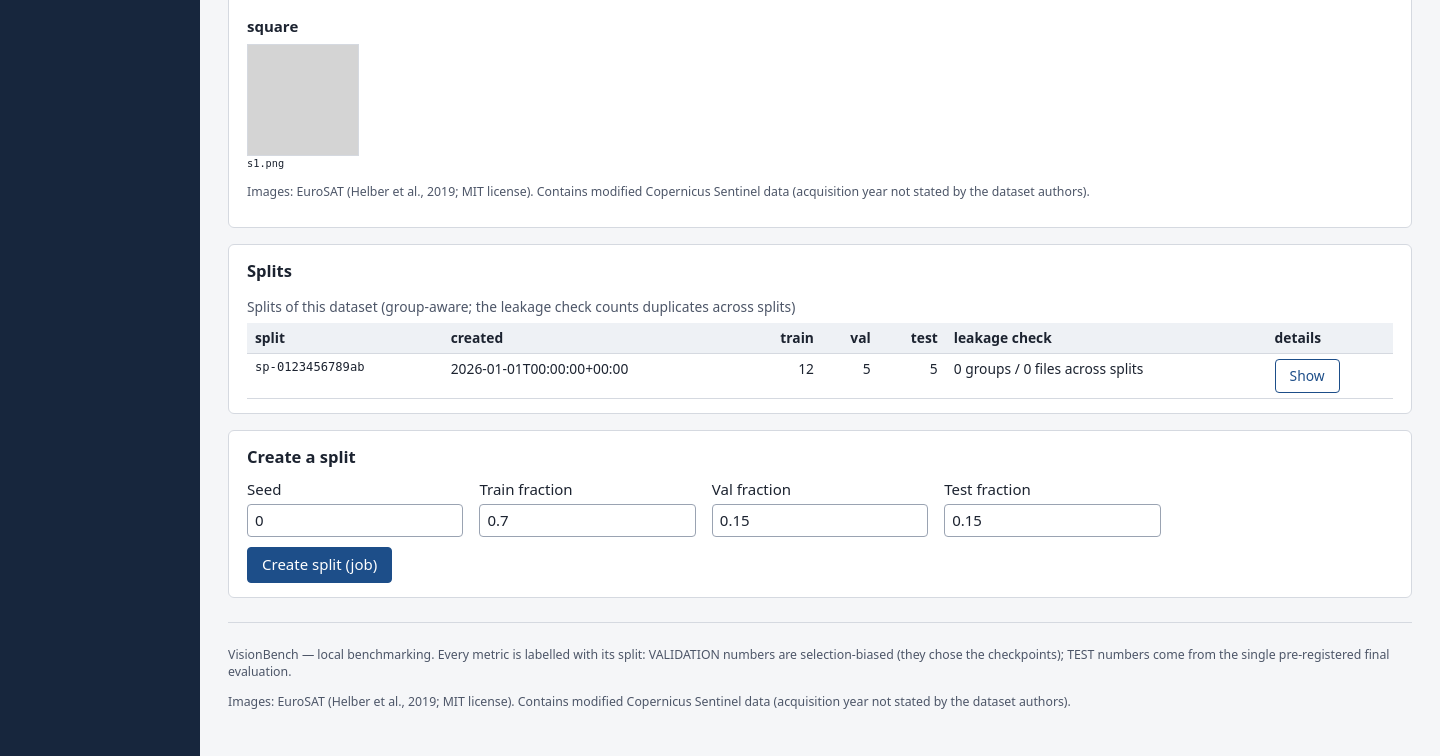
Test case: Datasets › shows a dataset with class counts, samples, attribution and splits
(page scrolled)
Expected: the text "Contains modified Copernicus Sentinel data" below "s1.png" is shown, [247, 183, 1090, 200]
Click the button "Show" at point(1307, 376), box [1275, 359, 1340, 393]
(page scrolled)
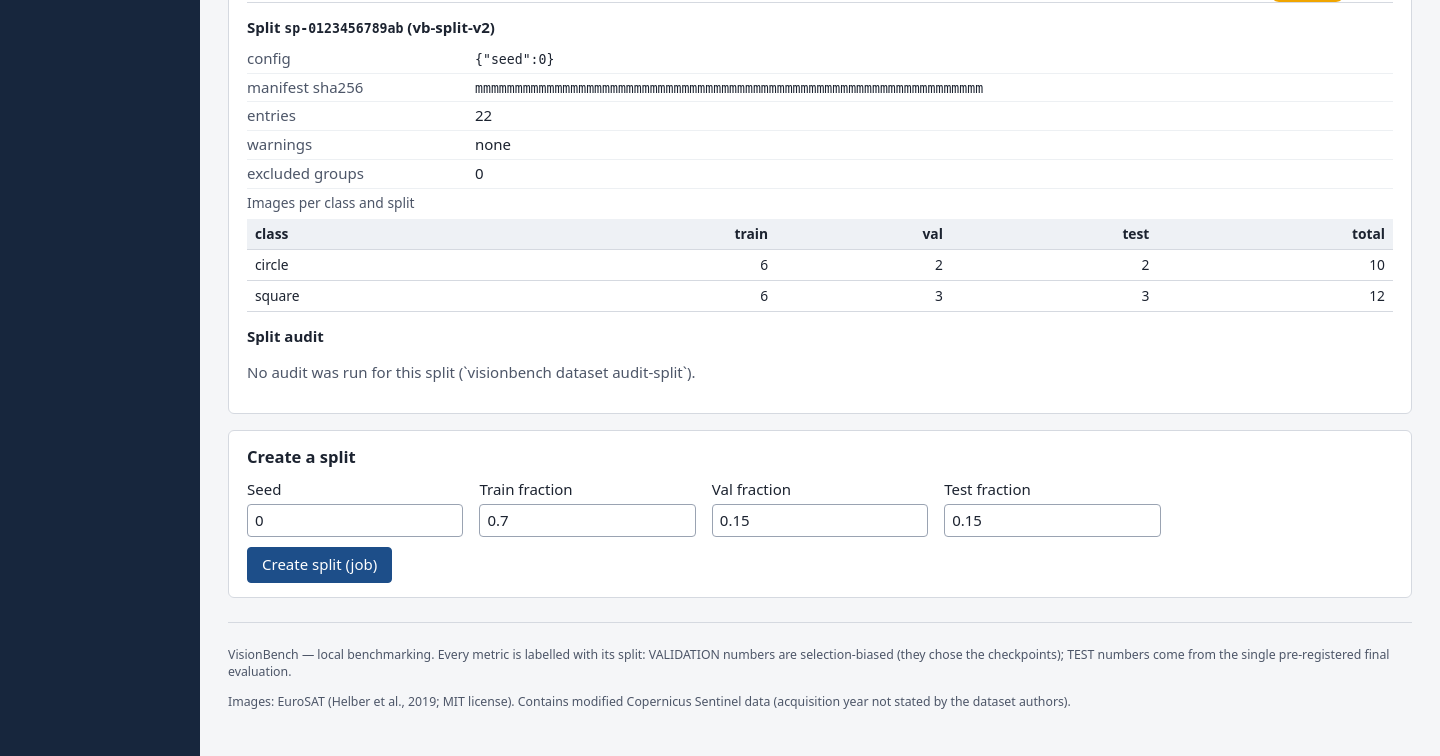
Now the text "Images per class and split" is shown, box [247, 193, 415, 212]
Now the text "No audit was run" is shown, box [247, 362, 696, 382]
